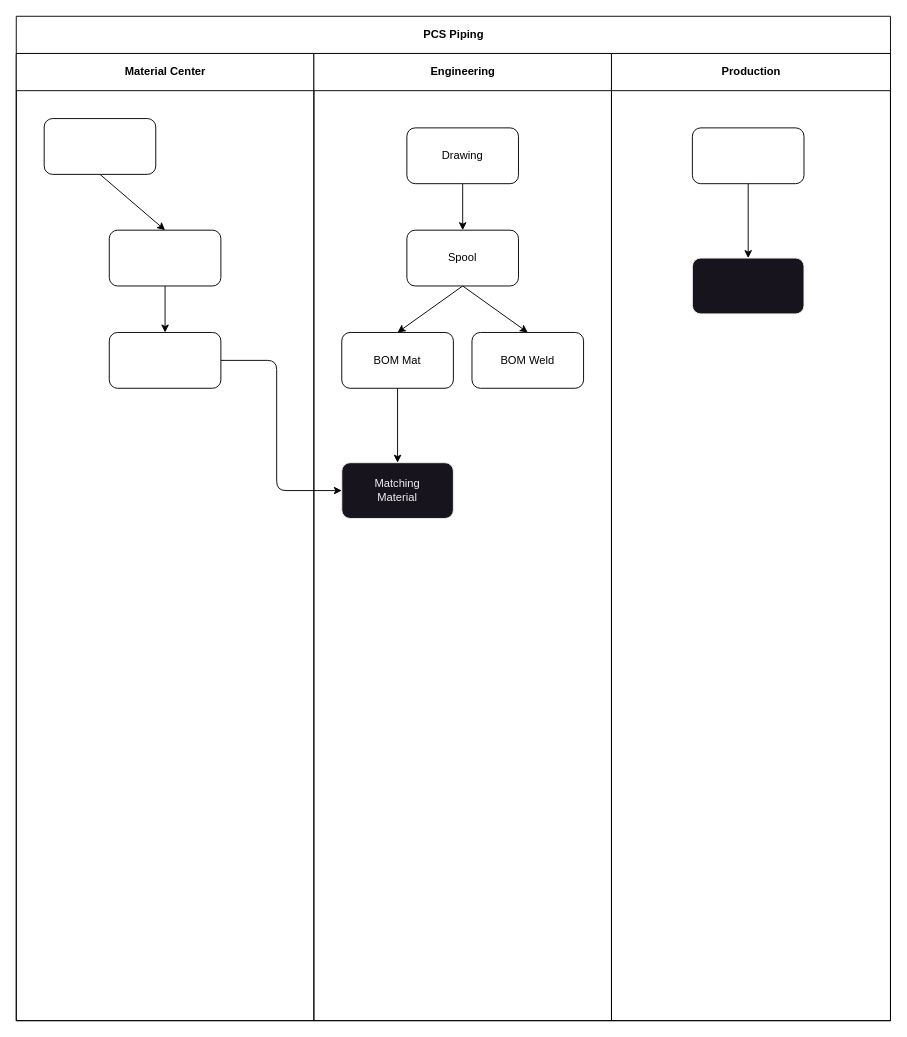
Image size: 907x1037. Some labels were removed from this diagram. The shapes that lost their labels are listed below. From the top down, each one's centre as x and y in pixels, then its label:
At [99,146]: "Packing List".
At [747,155]: "Issue to Group Fab".
At [164,257]: "Material Receive".
At [747,285]: "Cutting Record".
At [164,360]: "Material Stock".
